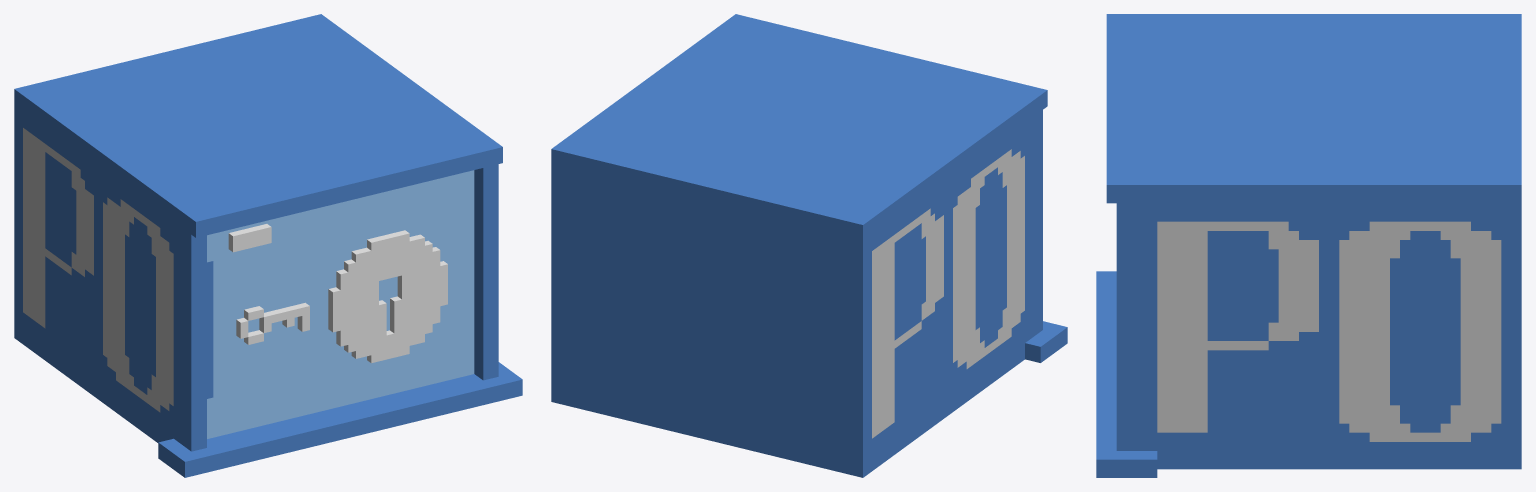
Rendered from mailbox.obj.
The picture shows the model from 3 angles, left to right: view 1: azimuth 30°, elevation 25°; view 2: azimuth 150°, elevation 25°; view 3: azimuth 270°, elevation 25°; orthographic projection. The views are drawn at different scales.
Parts seen in each view (by area): view 1: Box_POBOX-3, Box_Door_POBOX-2; view 2: Box_POBOX-3; view 3: Box_POBOX-3.
Part boxes in pixels (left/top/right/bottom): Box_POBOX-3: left=14, top=14, right=522, bottom=477; Box_Door_POBOX-2: left=207, top=170, right=474, bottom=438; Box_POBOX-3: left=551, top=14, right=1067, bottom=477; Box_POBOX-3: left=1096, top=14, right=1521, bottom=477.
Size of the model in its own units: 4.4 by 3.1 by 4.2.
